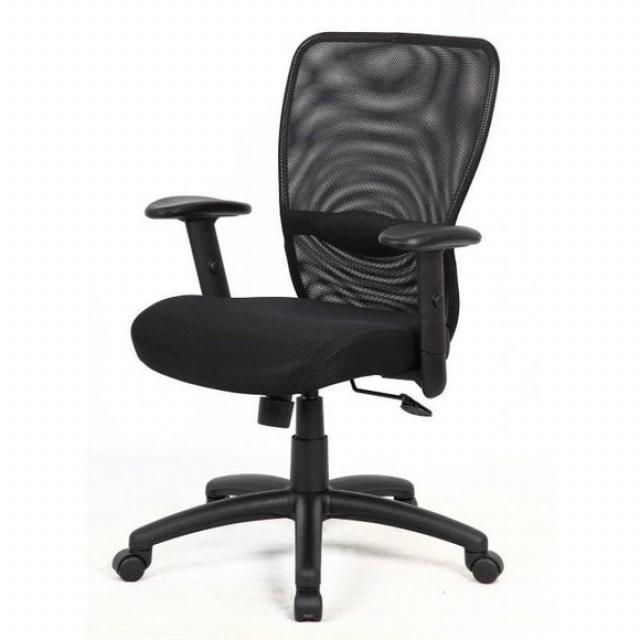chair: (0, 19, 585, 640)
